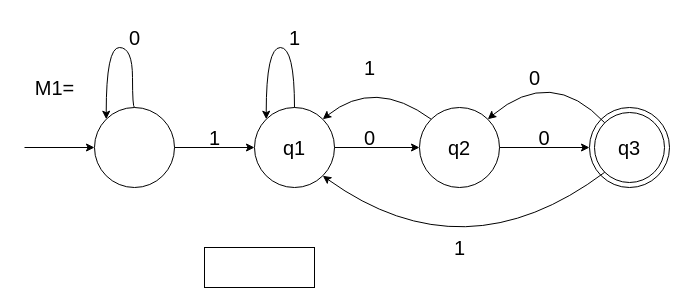
Some shapes in this 687 by 305 pixel diagram are drawn without their labels. The centre of each missing label's shape, as x and y in pixels:
"L(M1) = A" goes at point (259, 267).
"q0" goes at point (134, 147).
